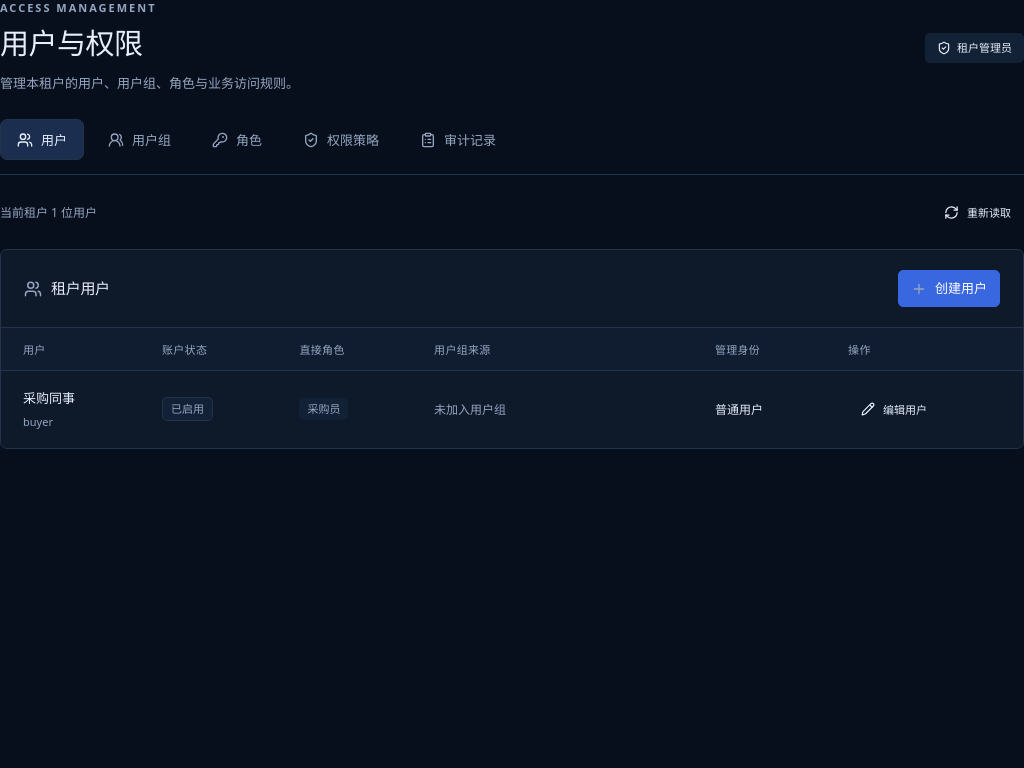
Test: identity administration › clears loaded users and roles when a management mutation is forbidden
This screenshot has width=1024, height=768.
expect the text "采购同事" is shown: met, box [23, 389, 75, 407]
Click the button "编辑用户" at (894, 409), box [848, 392, 940, 426]
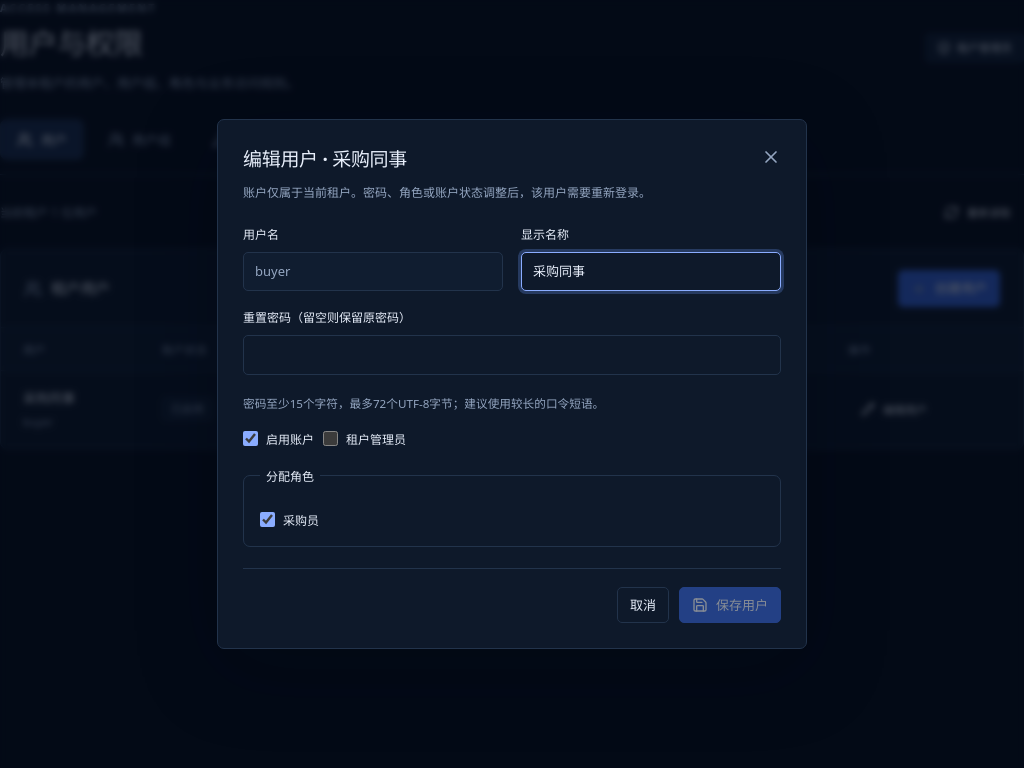
Replace the text in the field labelled "显示名称" with "新的显示名称" at (651, 272), box [521, 252, 781, 291]
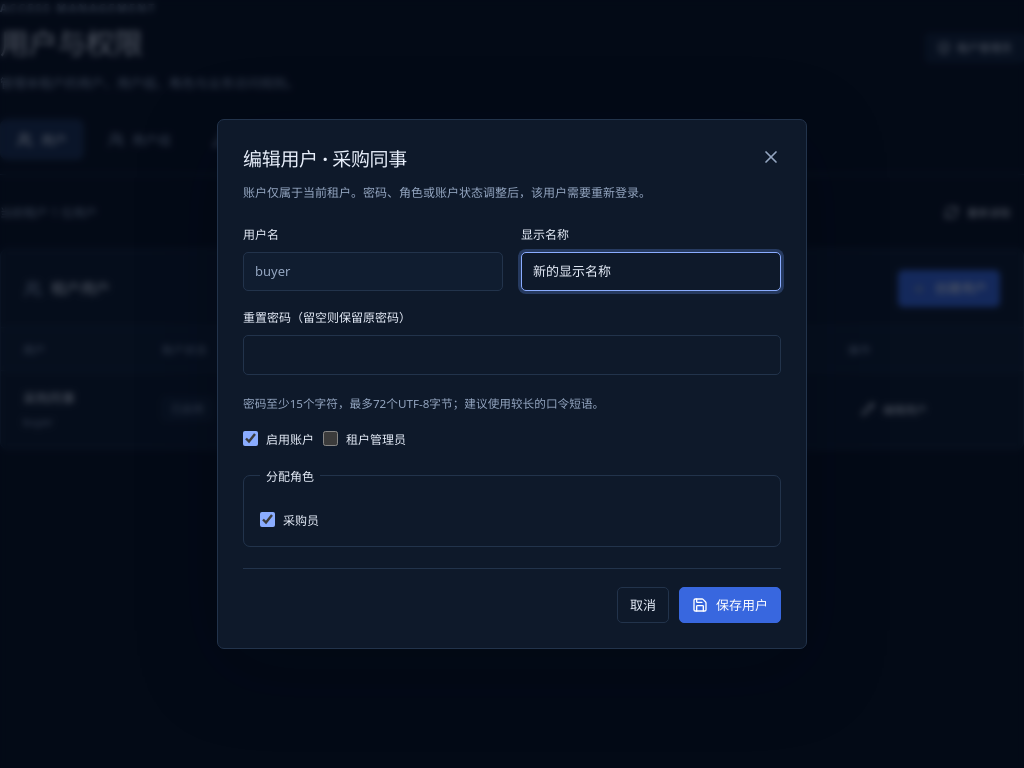
Click the button "保存用户" at (730, 605), box [679, 587, 781, 623]
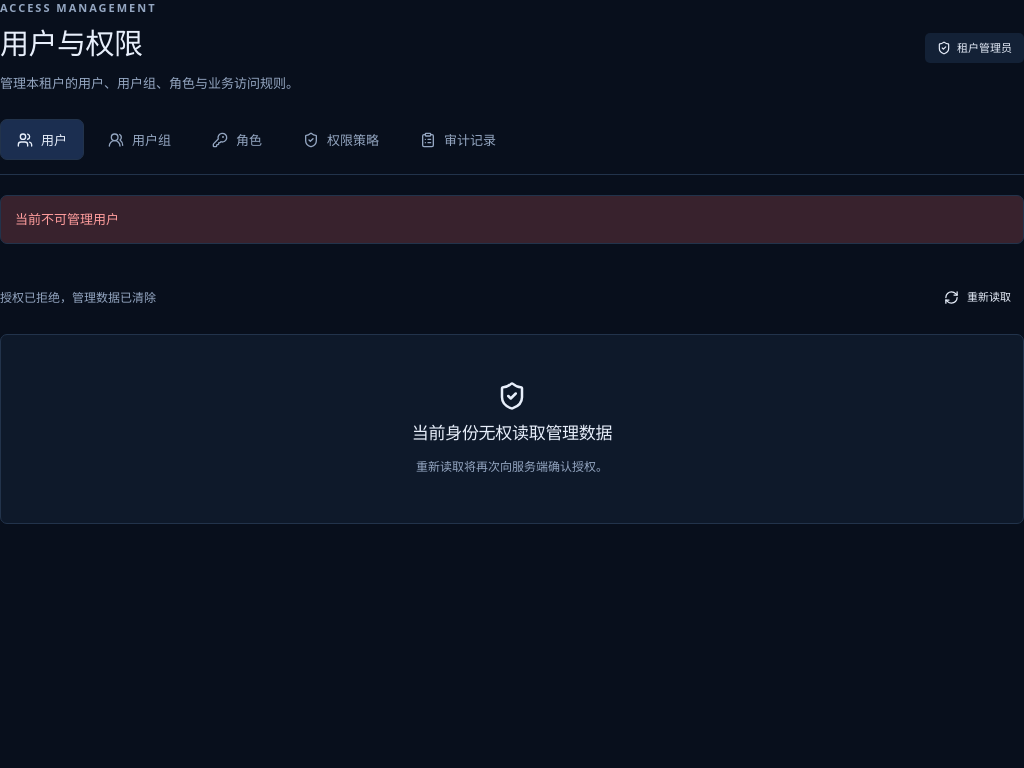
expect the text "当前不可管理用户" is shown: met, box [0, 195, 1023, 244]
expect the text "采购员" is gone: met
expect the dialog is gone: met
